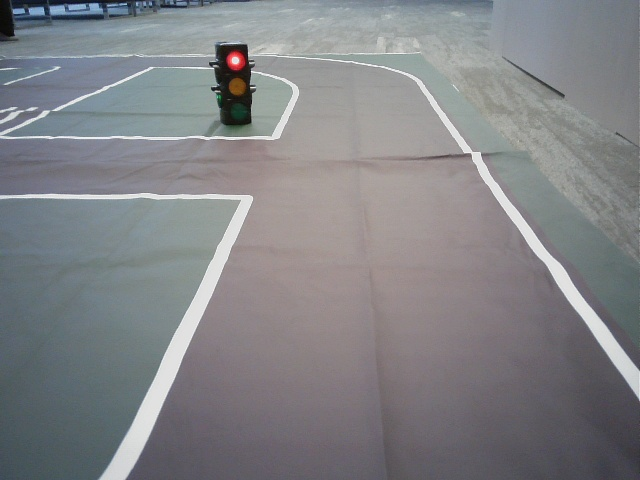red: (222, 48, 249, 123)
